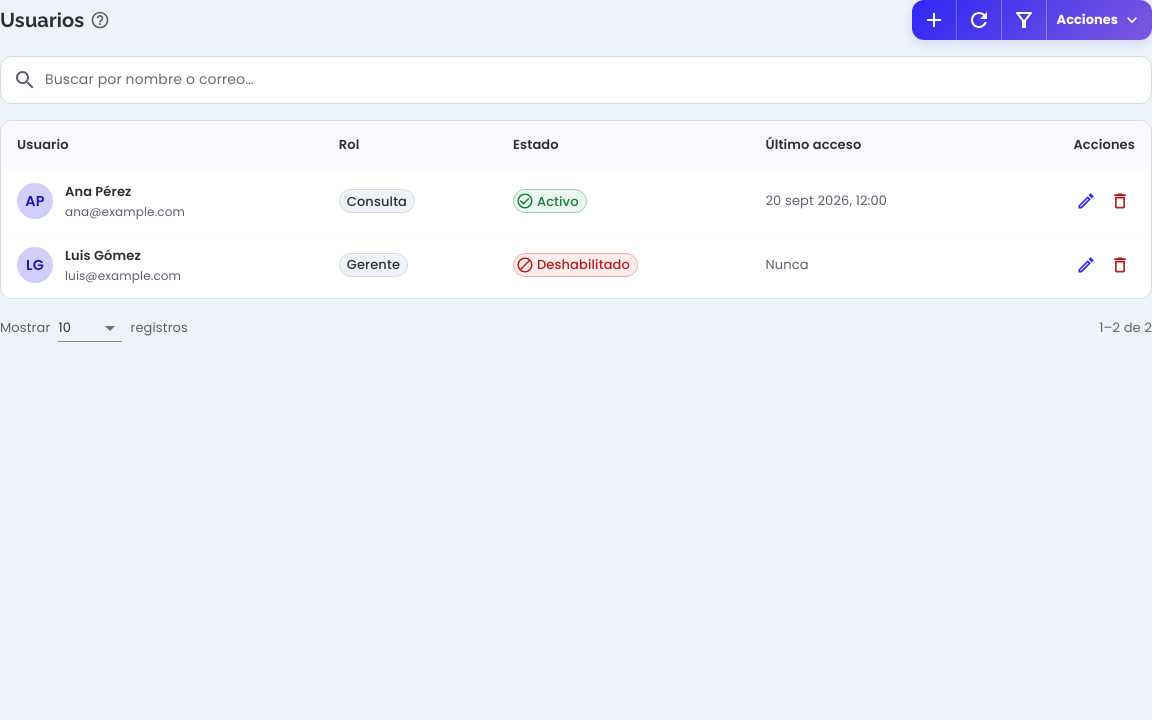
Test: <UsersPage /> › edita un usuario: el correo queda bloqueado y solo se envían los campos editables
Expected: the row "Ana Pérez" is shown, [1,170,1151,233]
Click the button named "Editar a Ana Pérez" at (1086, 201), box [1071,186,1101,216]
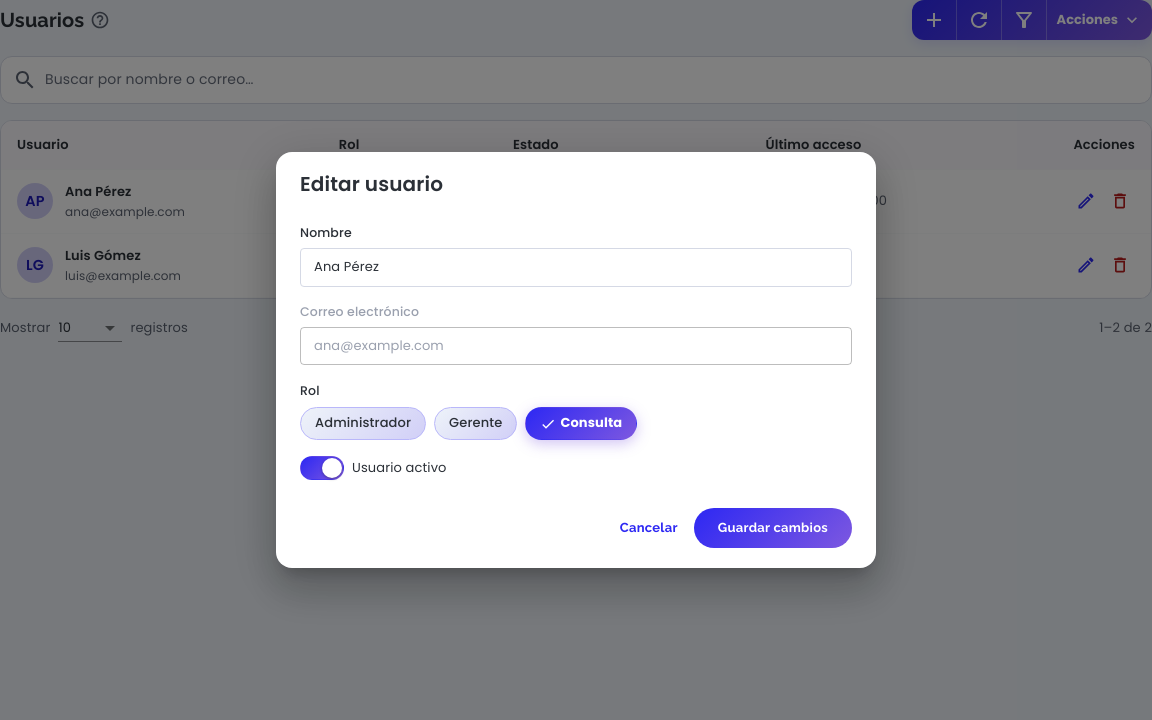
Result: the field labelled "Correo electrónico" is disabled at [300,327,852,365]
Click the radio button labelled "Gerente" at (476, 424), box [434,407,517,440]
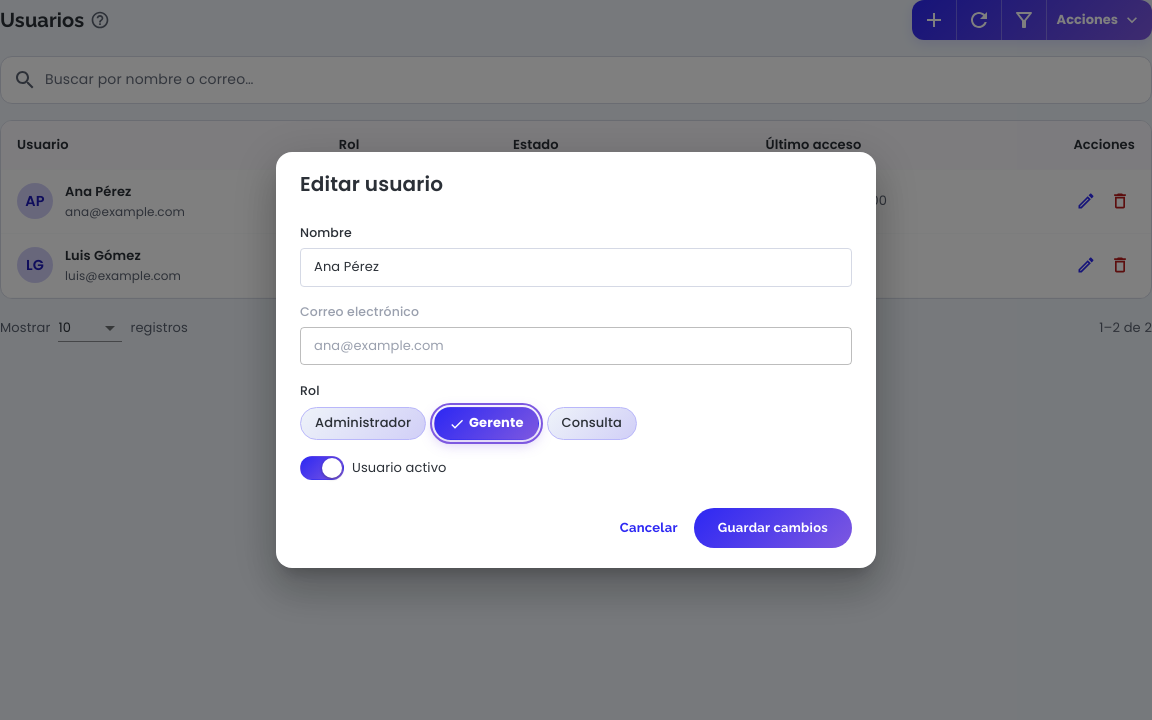
Click the button "Guardar cambios" at (773, 528), box [694,508,852,548]
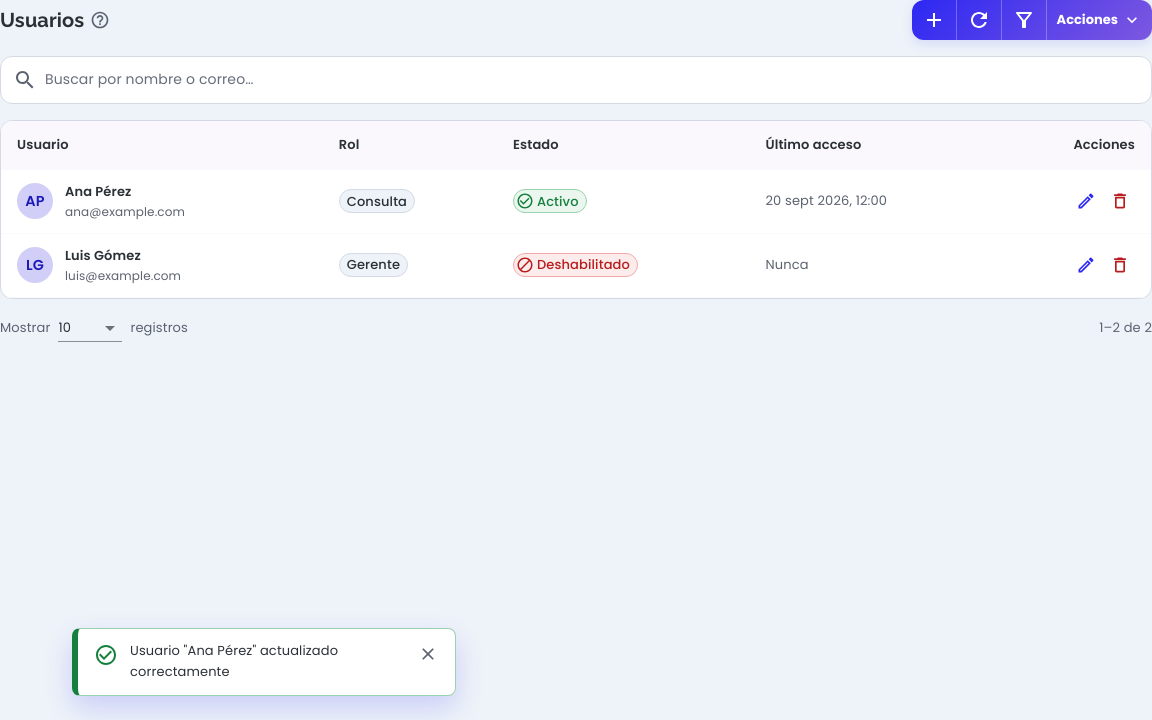
Result: the element named "Notificaciones" shows "actualizado correctamente" at [130,641,338,681]
